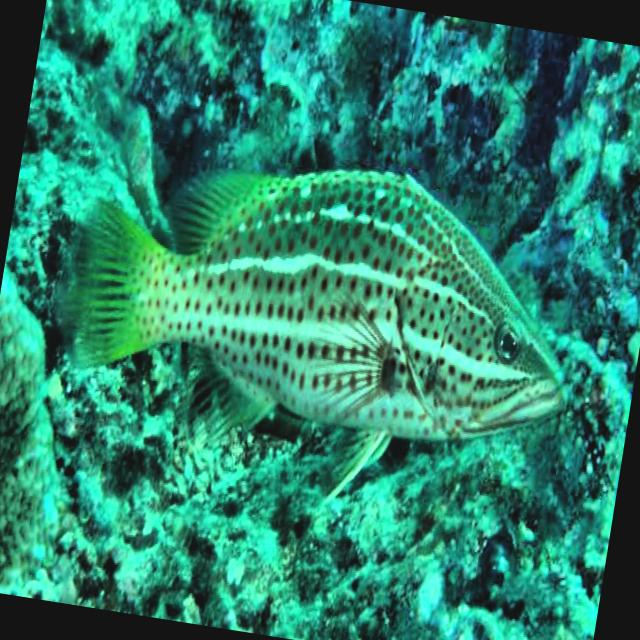fish: (36, 118, 596, 540)
